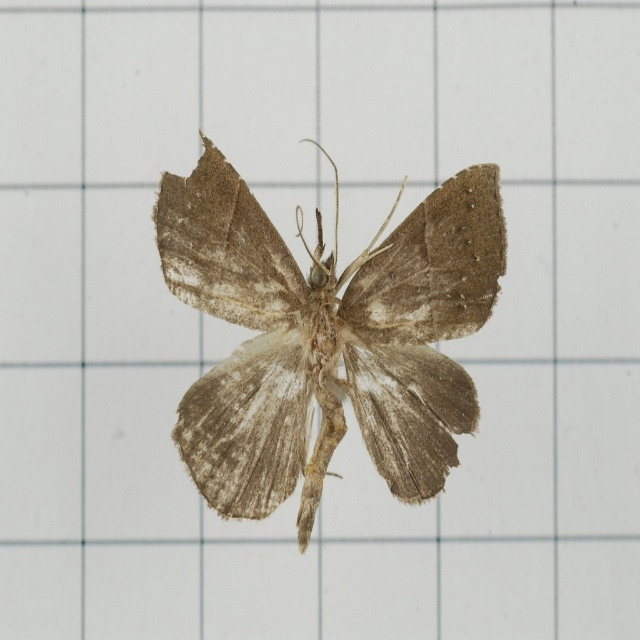Butterfly: (144, 113, 510, 536)
